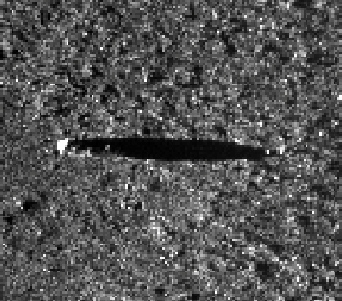mine: (52, 133, 279, 165)
